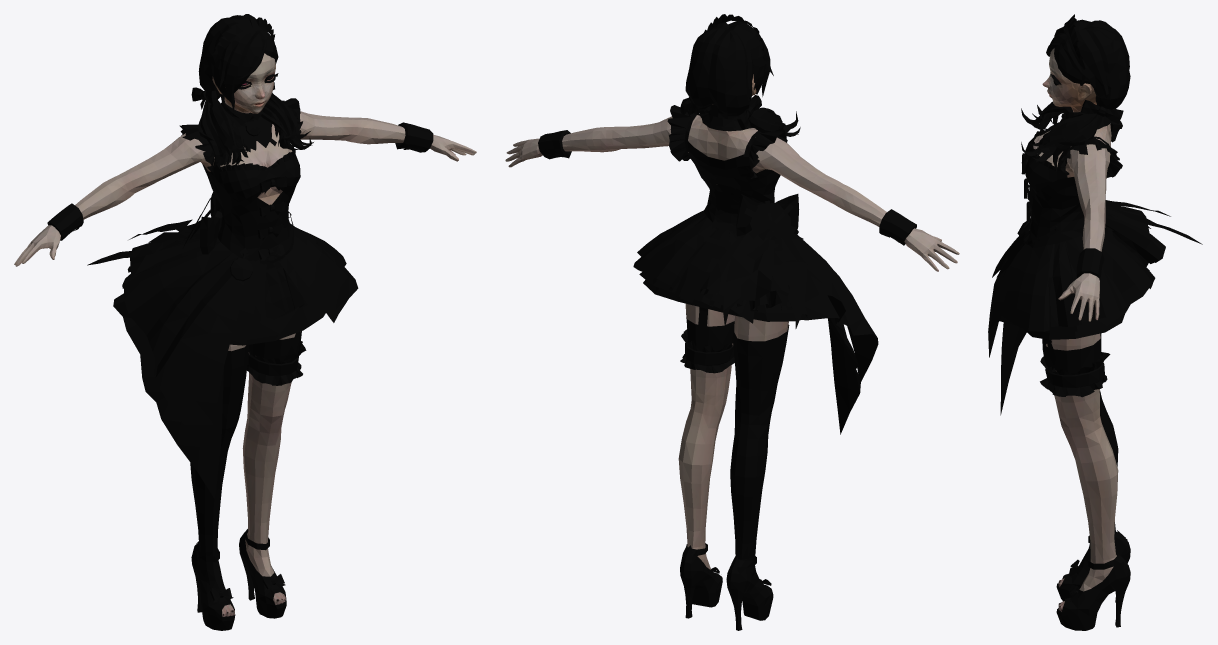
Rendered from adriane.gltf.
3 renders of one model, left to right at view 1: azimuth 30°, elevation 25°; view 2: azimuth 150°, elevation 25°; view 3: azimuth 270°, elevation 25°, orthographic.
Bounding box in the file's own units: 1.99 × 2.5 × 0.8195.
Materials: 6 (6 with a texture image).
